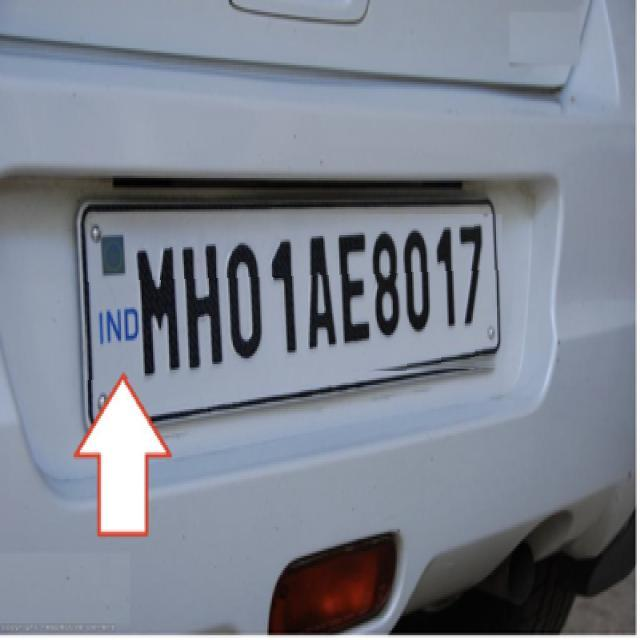licence: (85, 214, 502, 380)
